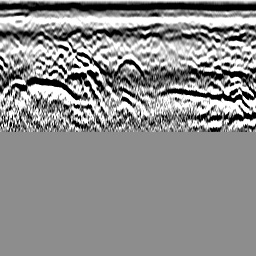cavity: (114, 54, 142, 78)
